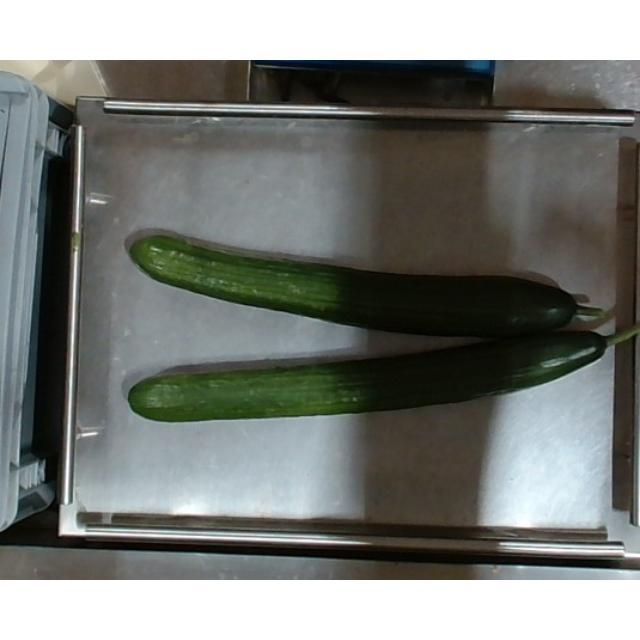cucumber: (126, 229, 602, 337), (130, 329, 640, 425)
